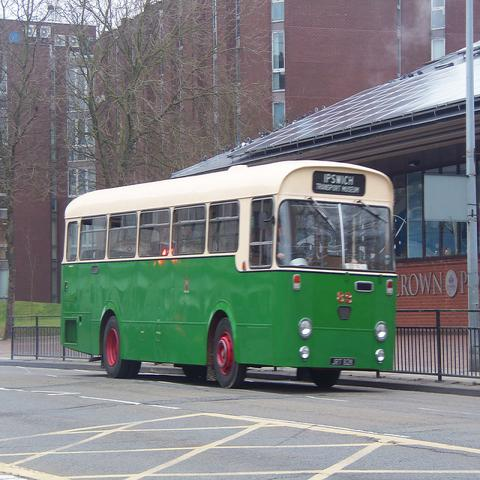bus: (62, 162, 399, 387)
